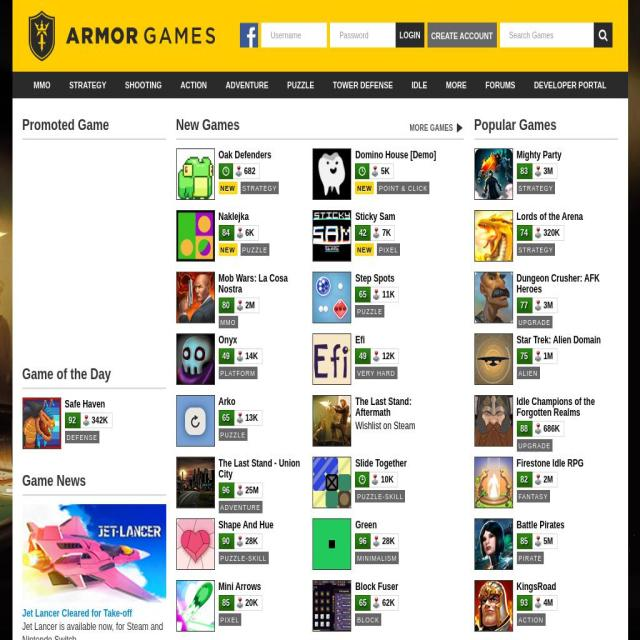button: (474, 148, 608, 200), (474, 210, 608, 262), (474, 333, 608, 385), (474, 395, 608, 447), (474, 518, 608, 570), (474, 580, 608, 632), (175, 148, 308, 200), (175, 210, 308, 262), (175, 333, 308, 385), (175, 395, 308, 447), (175, 518, 308, 570), (175, 580, 308, 632), (312, 148, 444, 200), (312, 210, 444, 262), (312, 333, 444, 385), (312, 395, 444, 447), (312, 518, 444, 570), (312, 580, 444, 632), (474, 272, 608, 323), (474, 457, 608, 508), (175, 272, 308, 323), (175, 457, 308, 508), (22, 398, 154, 449), (312, 272, 444, 323), (312, 457, 444, 508), (527, 72, 614, 98), (326, 72, 400, 98), (22, 548, 166, 561), (427, 22, 497, 48), (218, 72, 276, 98), (62, 72, 114, 98), (118, 72, 168, 98), (478, 72, 523, 98), (173, 72, 214, 98), (280, 72, 321, 98), (438, 72, 474, 98), (409, 120, 464, 137), (27, 72, 58, 98), (404, 72, 434, 98), (395, 22, 424, 48), (593, 22, 613, 48)
field: (499, 22, 594, 48), (330, 22, 396, 48), (261, 22, 327, 48)
heading: (22, 361, 111, 387), (22, 112, 109, 138), (474, 112, 557, 138), (22, 468, 86, 494), (176, 112, 240, 138)
iframe: (22, 148, 152, 348)
image: (22, 504, 166, 604), (28, 10, 216, 62), (22, 398, 60, 448), (312, 148, 350, 198), (312, 210, 350, 260), (312, 272, 350, 322), (312, 334, 350, 384), (312, 395, 350, 445), (312, 456, 350, 506), (312, 518, 350, 568), (312, 580, 350, 630), (474, 148, 512, 198), (474, 210, 512, 260), (474, 272, 512, 322), (474, 334, 512, 384), (474, 395, 512, 445), (474, 456, 512, 506), (474, 518, 512, 568), (474, 580, 512, 630), (176, 148, 213, 198), (176, 210, 213, 260), (176, 272, 213, 322), (176, 334, 213, 384), (176, 395, 213, 445), (176, 456, 213, 506), (176, 518, 213, 568), (176, 580, 213, 630), (239, 22, 258, 48), (598, 29, 608, 42), (454, 122, 464, 133), (82, 415, 90, 426), (534, 166, 542, 177), (534, 300, 542, 311), (534, 351, 542, 362), (534, 474, 542, 485), (534, 228, 542, 238), (534, 424, 542, 434), (534, 536, 542, 546), (534, 598, 542, 608), (235, 166, 242, 177), (372, 166, 379, 177), (236, 300, 243, 311), (373, 289, 380, 300), (236, 351, 243, 362), (373, 351, 380, 362), (236, 412, 243, 423), (236, 485, 243, 496), (372, 474, 379, 485), (222, 166, 229, 176), (359, 166, 366, 176), (236, 228, 243, 238), (373, 228, 380, 238), (359, 474, 366, 484), (236, 536, 243, 546), (373, 536, 380, 546), (236, 598, 243, 608), (373, 598, 380, 608)
link: (64, 412, 80, 428), (218, 225, 234, 241), (355, 225, 371, 241), (218, 298, 234, 314), (355, 286, 371, 302), (218, 348, 234, 364), (355, 348, 371, 364), (218, 410, 234, 426), (218, 482, 234, 498), (218, 533, 234, 549), (355, 533, 371, 549), (218, 595, 234, 611), (355, 595, 371, 611), (516, 163, 532, 179), (516, 225, 532, 241), (516, 298, 532, 314), (516, 348, 532, 364), (516, 421, 532, 437), (516, 472, 532, 488), (516, 533, 532, 549), (516, 595, 532, 611)
text: (312, 395, 444, 432), (22, 620, 166, 640), (516, 273, 608, 295), (22, 607, 166, 621), (218, 273, 306, 295), (218, 458, 306, 480), (516, 397, 608, 418), (355, 397, 443, 418), (516, 150, 608, 161), (516, 335, 608, 346), (516, 458, 608, 469), (516, 520, 608, 531), (64, 399, 152, 410), (218, 150, 306, 161), (355, 150, 443, 161), (218, 335, 306, 346), (355, 335, 443, 346), (218, 397, 306, 408), (355, 458, 443, 469), (218, 520, 306, 531), (355, 520, 443, 531), (516, 212, 608, 222), (516, 582, 608, 592), (218, 212, 306, 222), (355, 212, 443, 222), (355, 274, 443, 284), (218, 582, 306, 592), (355, 582, 443, 592), (377, 182, 430, 194), (355, 490, 406, 502), (218, 552, 269, 564), (218, 501, 263, 513), (355, 552, 399, 564), (516, 243, 556, 256), (355, 367, 397, 379), (516, 439, 553, 452), (218, 367, 258, 379), (516, 182, 556, 194), (240, 182, 279, 194), (516, 316, 553, 328), (64, 431, 100, 443), (516, 490, 550, 502), (240, 243, 270, 256), (218, 428, 248, 441), (516, 613, 546, 626), (409, 124, 455, 132), (355, 305, 384, 317), (355, 613, 381, 626), (516, 552, 544, 564), (218, 613, 242, 626), (377, 243, 400, 256), (516, 367, 540, 379), (218, 243, 238, 256), (355, 243, 374, 256), (218, 182, 238, 194), (218, 316, 238, 328), (355, 182, 374, 194), (91, 415, 108, 425), (543, 228, 560, 238), (543, 424, 560, 434), (245, 485, 259, 495), (243, 166, 256, 176), (382, 289, 395, 299), (245, 351, 258, 361), (382, 351, 395, 361), (245, 412, 258, 422), (381, 474, 394, 484), (245, 536, 258, 546), (382, 536, 395, 546), (245, 598, 258, 608), (382, 598, 395, 608), (245, 300, 255, 310), (543, 166, 553, 176), (543, 300, 553, 310), (543, 351, 553, 361), (543, 474, 553, 484), (543, 536, 553, 546), (543, 598, 553, 608), (381, 166, 390, 176), (245, 228, 254, 238), (382, 228, 391, 238)
